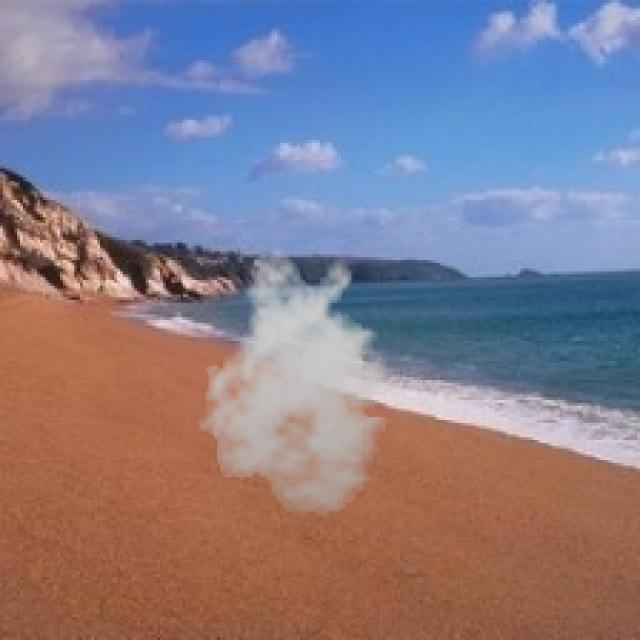smoke: (192, 249, 412, 517)
